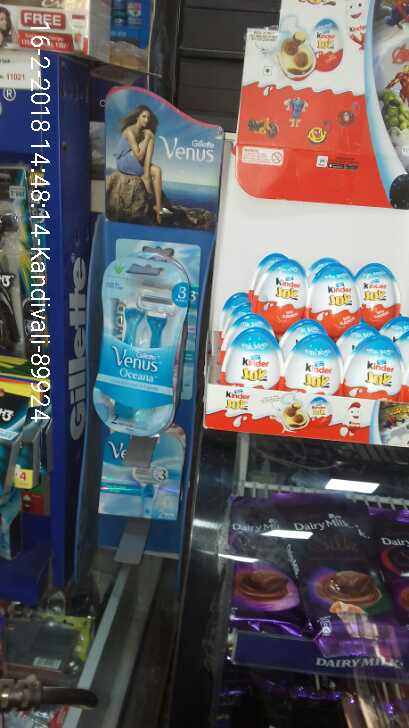venus: (84, 247, 191, 433), (96, 430, 191, 523)
